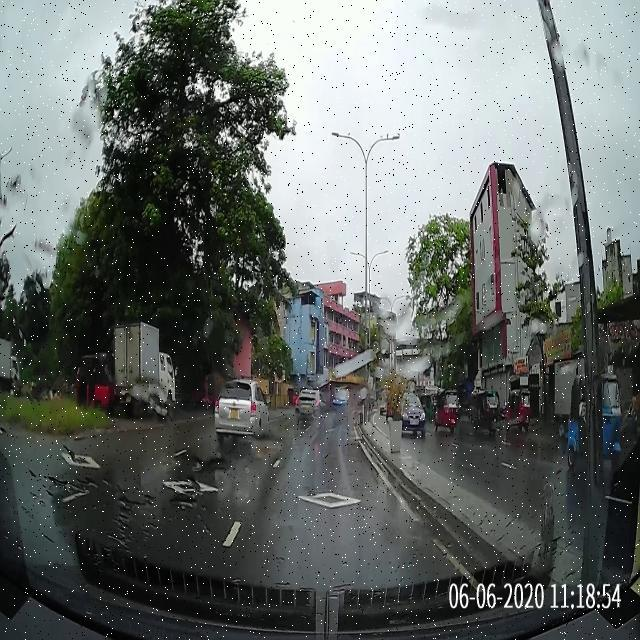diamond: (219, 474, 435, 530)
